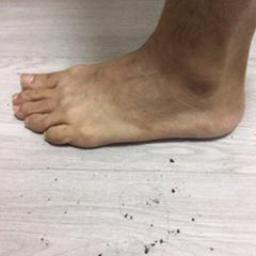Lateral View -Left Foot-: (7, 36, 254, 182)
